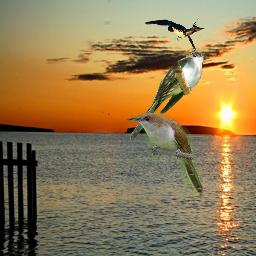Cuckoo: (128, 51, 210, 143), (127, 113, 203, 194)
Swallow: (143, 16, 217, 54)
